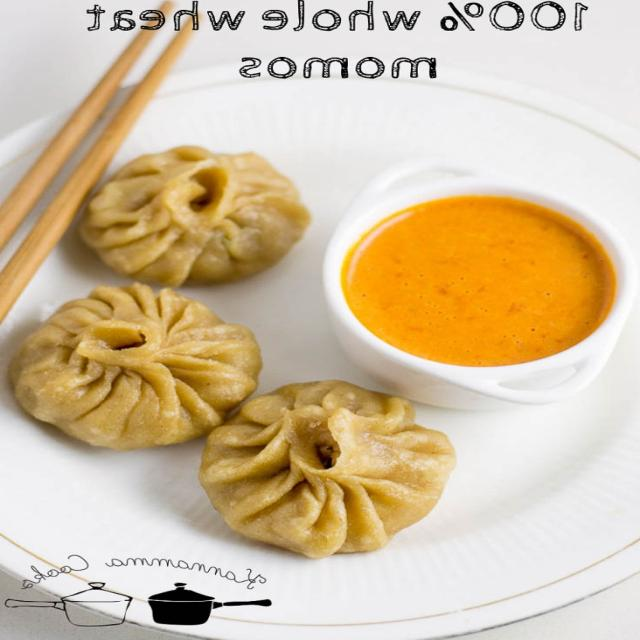momos: (4, 286, 278, 439), (186, 390, 442, 540), (70, 142, 316, 276)
